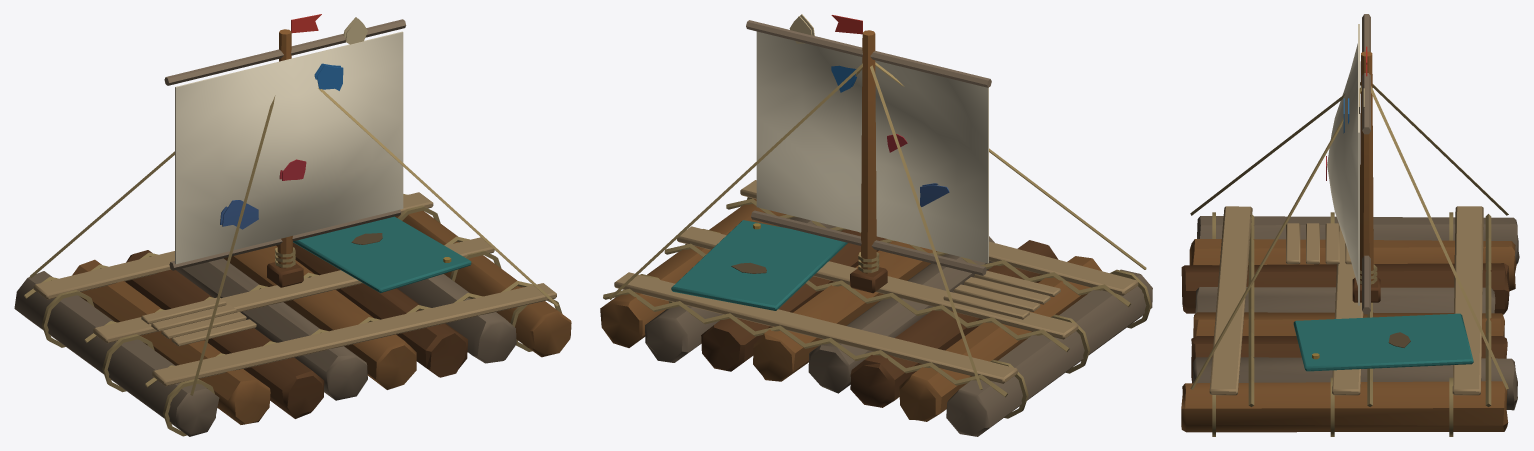
File: 118_radeau.fbx
3 views of the same model, side by side, from view 1: azimuth 30°, elevation 25°; view 2: azimuth 150°, elevation 25°; view 3: azimuth 270°, elevation 25° (orthographic). The views are drawn at different scales.
Parts seen in each view (by area): view 1: Planches, Voile, Cordes, Mat; view 2: Planches, Voile, Cordes, Mat; view 3: Planches, Cordes, Voile, Mat.
Boxes of the visible parts, bbox=[...] form: Planches: bbox=[14, 192, 571, 436]; Voile: bbox=[175, 14, 403, 264]; Cordes: bbox=[24, 88, 562, 436]; Mat: bbox=[164, 19, 406, 270]; Planches: bbox=[600, 180, 1152, 436]; Voile: bbox=[756, 14, 988, 263]; Cordes: bbox=[603, 62, 1151, 418]; Mat: bbox=[746, 20, 991, 275]; Planches: bbox=[1181, 206, 1519, 432]; Cordes: bbox=[1190, 82, 1508, 436]; Voile: bbox=[1326, 24, 1367, 305]; Mat: bbox=[1360, 14, 1373, 314].
Bounding box in the file's own units: 2.24 × 1.68 × 1.68.
1 material, 1 textured.
